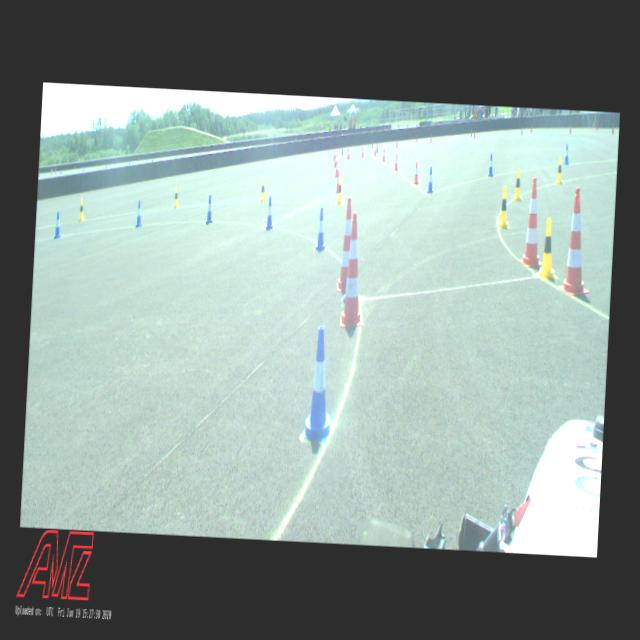blue_cone: (302, 326, 338, 443), (314, 208, 327, 251), (265, 196, 275, 230), (204, 195, 214, 224), (136, 200, 144, 228), (54, 211, 62, 238), (427, 166, 434, 194), (488, 153, 494, 176), (564, 144, 570, 165)
large_orange_cone: (558, 186, 594, 296), (340, 212, 368, 328), (519, 176, 547, 268), (336, 198, 354, 292)
orange_cone: (413, 161, 420, 184), (336, 170, 340, 193), (394, 154, 399, 170), (382, 148, 386, 162), (332, 148, 336, 162), (335, 159, 338, 177), (361, 145, 365, 158), (334, 154, 337, 168), (348, 146, 350, 160), (374, 144, 376, 156)
unknown_cone: (569, 124, 572, 135), (429, 134, 432, 143), (376, 142, 378, 154), (612, 122, 614, 134), (521, 126, 523, 136), (396, 138, 398, 148), (416, 134, 418, 143), (342, 147, 344, 156), (596, 121, 598, 130), (531, 125, 533, 134), (474, 130, 476, 139)
yellow_cone: (538, 218, 558, 280), (498, 186, 510, 227), (514, 168, 524, 200), (555, 157, 564, 186), (336, 176, 344, 204), (259, 178, 267, 202), (78, 198, 85, 222), (173, 186, 180, 208)
